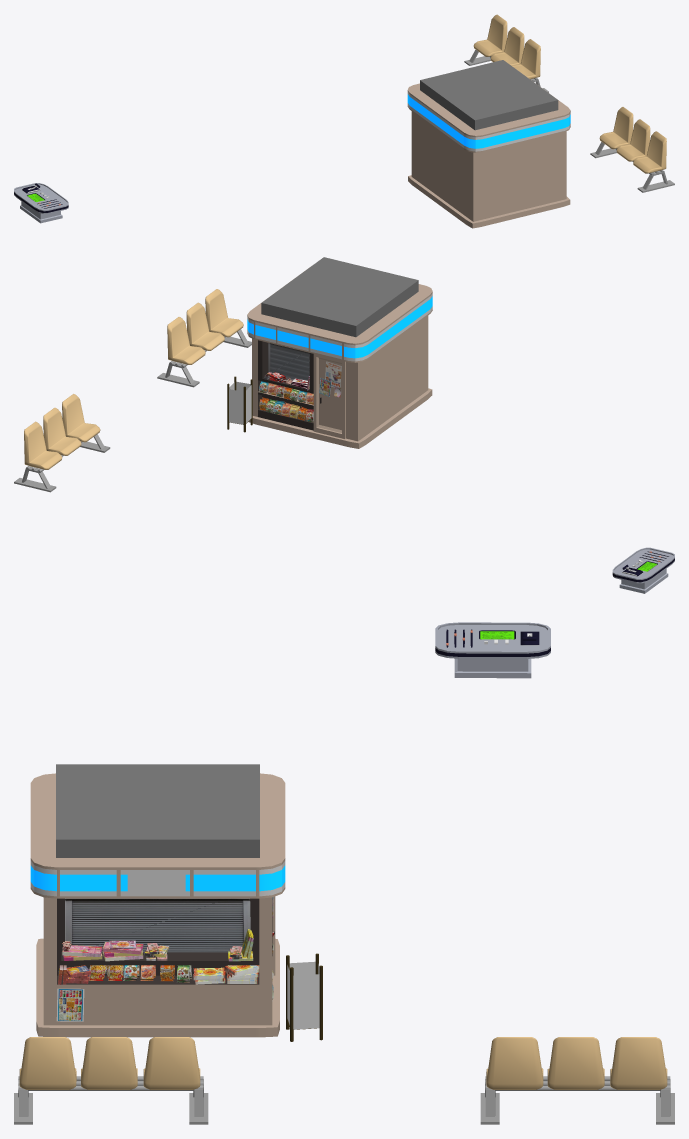
Rendered from tutorialMap.01.fbx.
3 renders of one model, top to bottom at view 1: azimuth 30°, elevation 25°; view 2: azimuth 150°, elevation 25°; view 3: azimuth 270°, elevation 25°, orthographic. The views are drawn at different scales.
Visible parts, largest first — view 1: Kiosk, Cube.010, Stole.001, ControlPanel; view 2: Kiosk, Cube.010, Stole.001, ControlPanel, shutters, Standting; view 3: Kiosk, Stole.001, Cube.010, shutters.001, ControlPanel, Standting, kiosk sign.002, addd.001.
Part boxes in pixels (bbox=[...]): Kiosk: bbox=[407, 60, 570, 228]; Cube.010: bbox=[590, 107, 674, 192]; Stole.001: bbox=[464, 14, 548, 92]; ControlPanel: bbox=[14, 183, 68, 223]; Kiosk: bbox=[247, 257, 432, 448]; Cube.010: bbox=[157, 289, 251, 387]; Stole.001: bbox=[14, 394, 110, 492]; ControlPanel: bbox=[612, 547, 674, 593]; shutters: bbox=[268, 343, 309, 380]; Standting: bbox=[227, 376, 252, 432]; Kiosk: bbox=[30, 764, 285, 1037]; Stole.001: bbox=[480, 1037, 674, 1124]; Cube.010: bbox=[14, 1037, 208, 1124]; shutters.001: bbox=[65, 898, 250, 952]; ControlPanel: bbox=[435, 622, 550, 678]; Standting: bbox=[286, 953, 322, 1041]; kiosk sign.002: bbox=[127, 874, 185, 891]; addd.001: bbox=[56, 988, 84, 1021].
Size of the model in its own units: 2021 by 382 by 1200.
